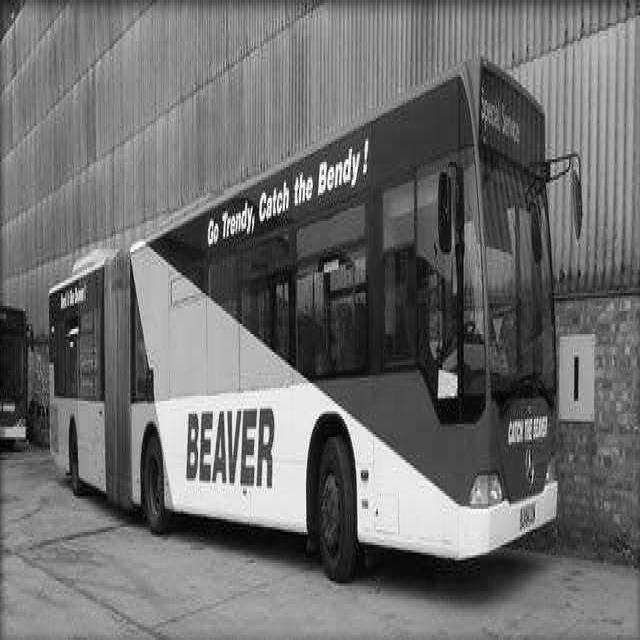Bus: (44, 57, 578, 550)
